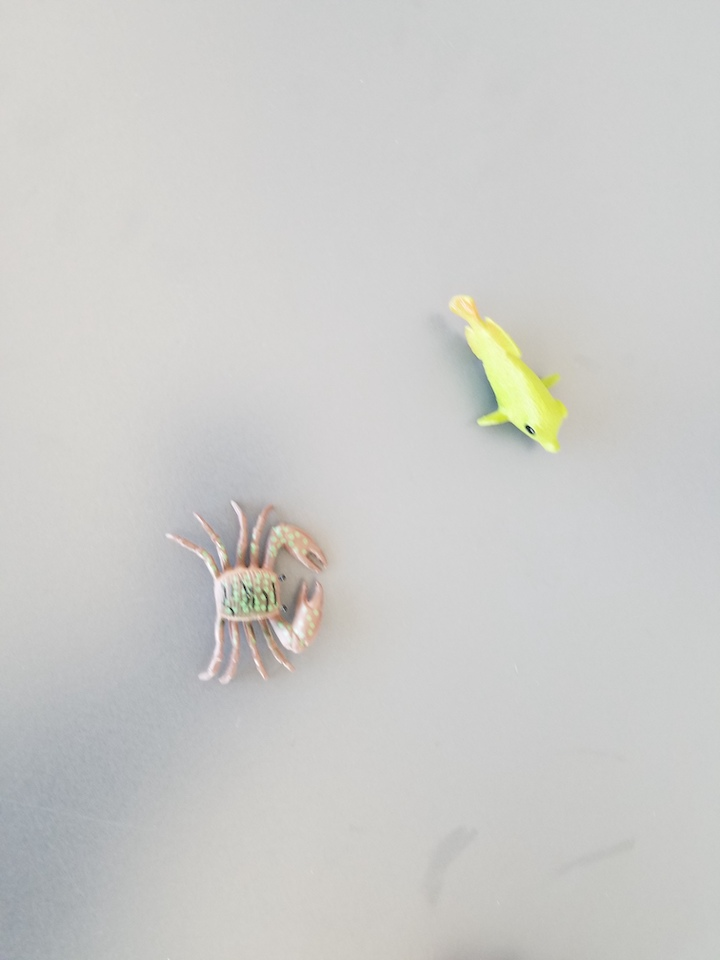crab: (159, 497, 332, 693)
fish: (442, 292, 577, 458)
